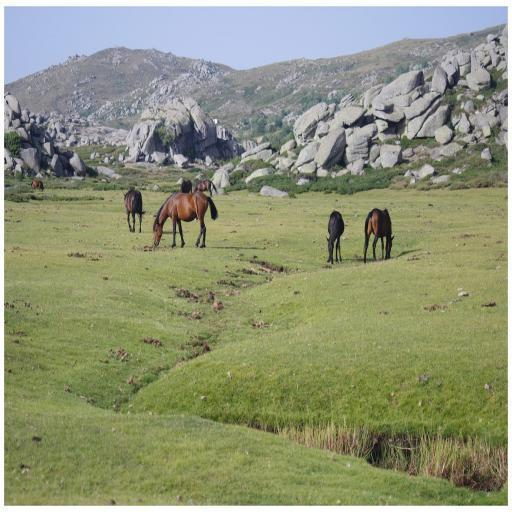horse: (153, 190, 217, 246), (364, 208, 395, 260), (325, 210, 345, 266), (123, 190, 145, 235), (194, 180, 217, 196), (180, 179, 193, 192), (30, 181, 44, 193)
